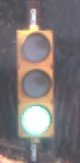Green: (5, 17, 65, 149)
